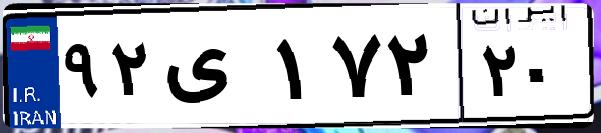0: (525, 38, 570, 115)
1: (270, 28, 330, 110)
2: (385, 28, 445, 110), (475, 38, 525, 113), (110, 28, 158, 98)
7: (330, 28, 385, 110)
9: (57, 26, 110, 100)
ی: (158, 20, 270, 120)
